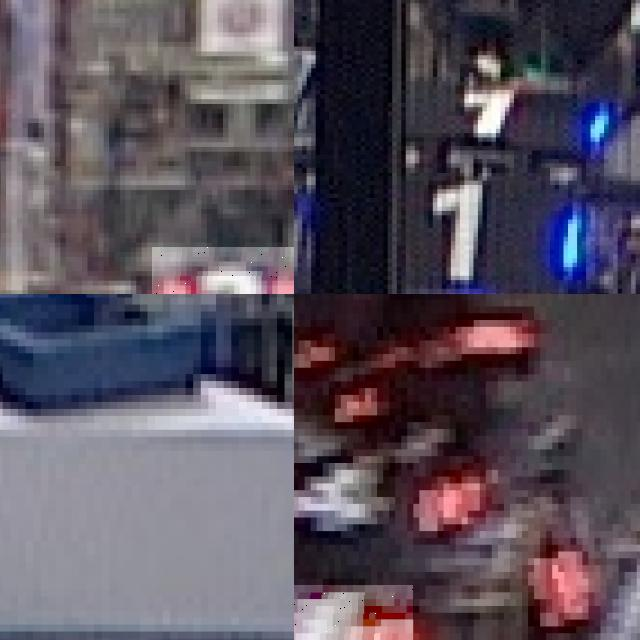B1: (383, 171, 581, 294), (388, 81, 613, 146)
R2: (152, 247, 294, 294)
R4: (294, 585, 413, 640)
